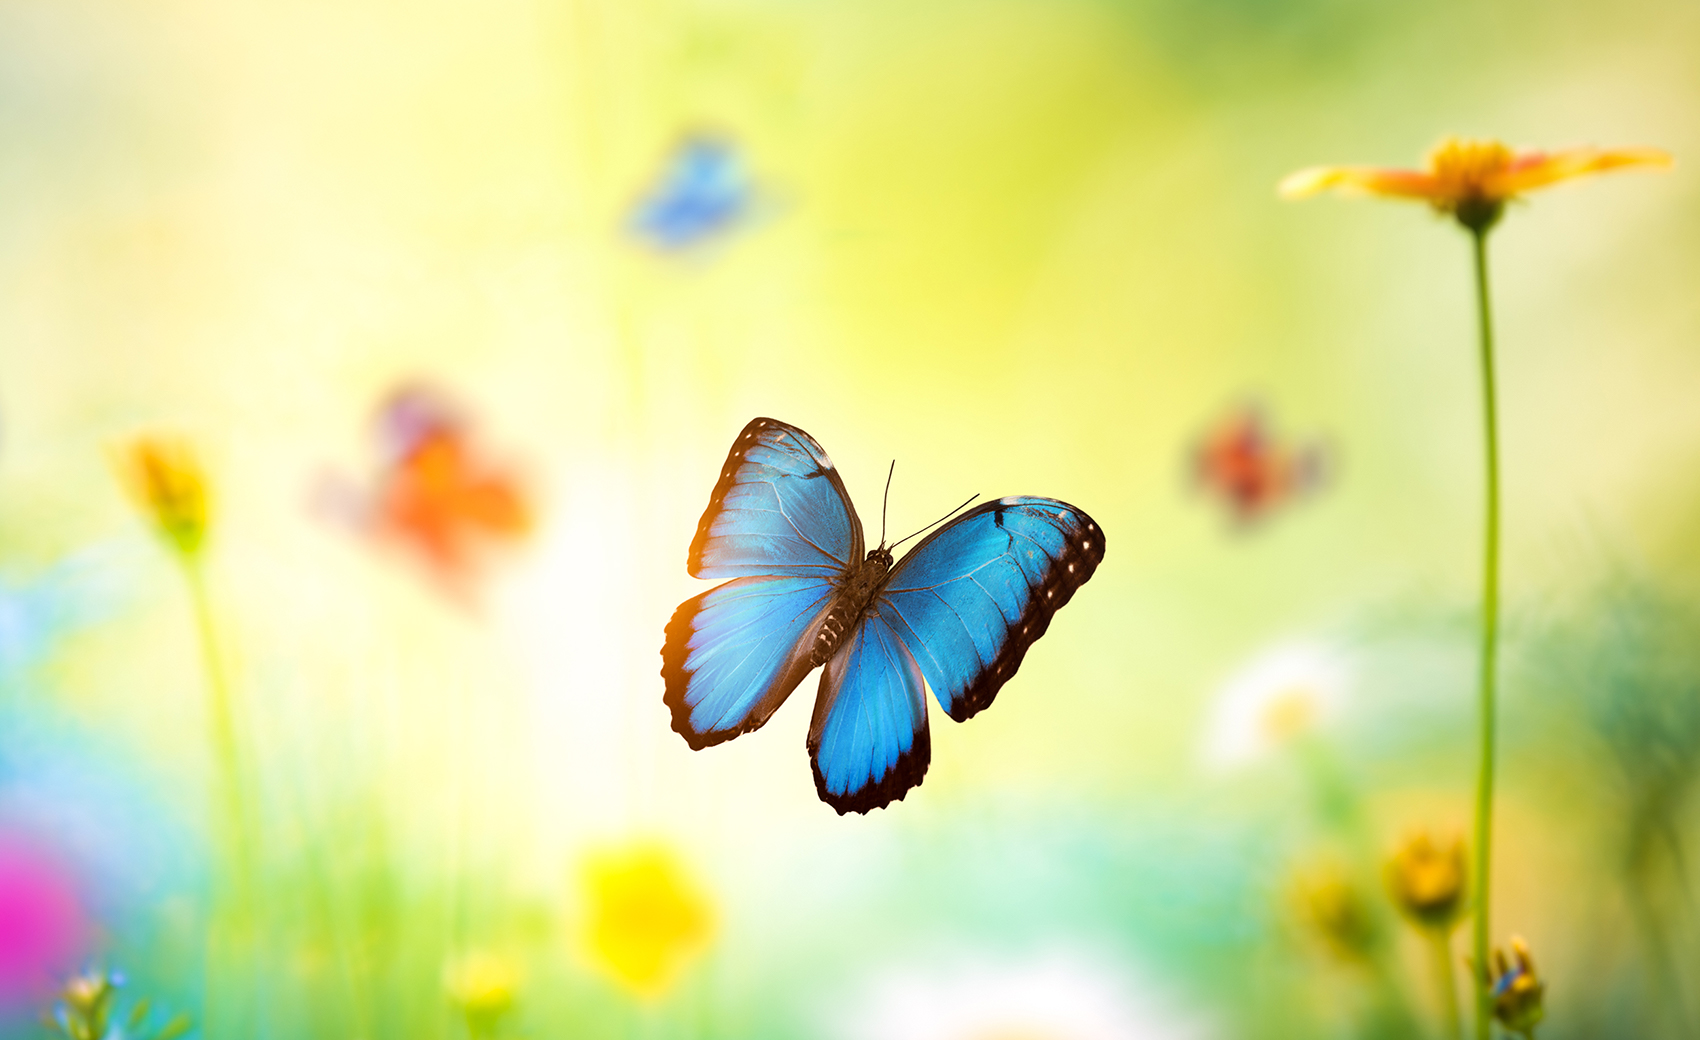Butterfly: (664, 411, 1110, 829)
